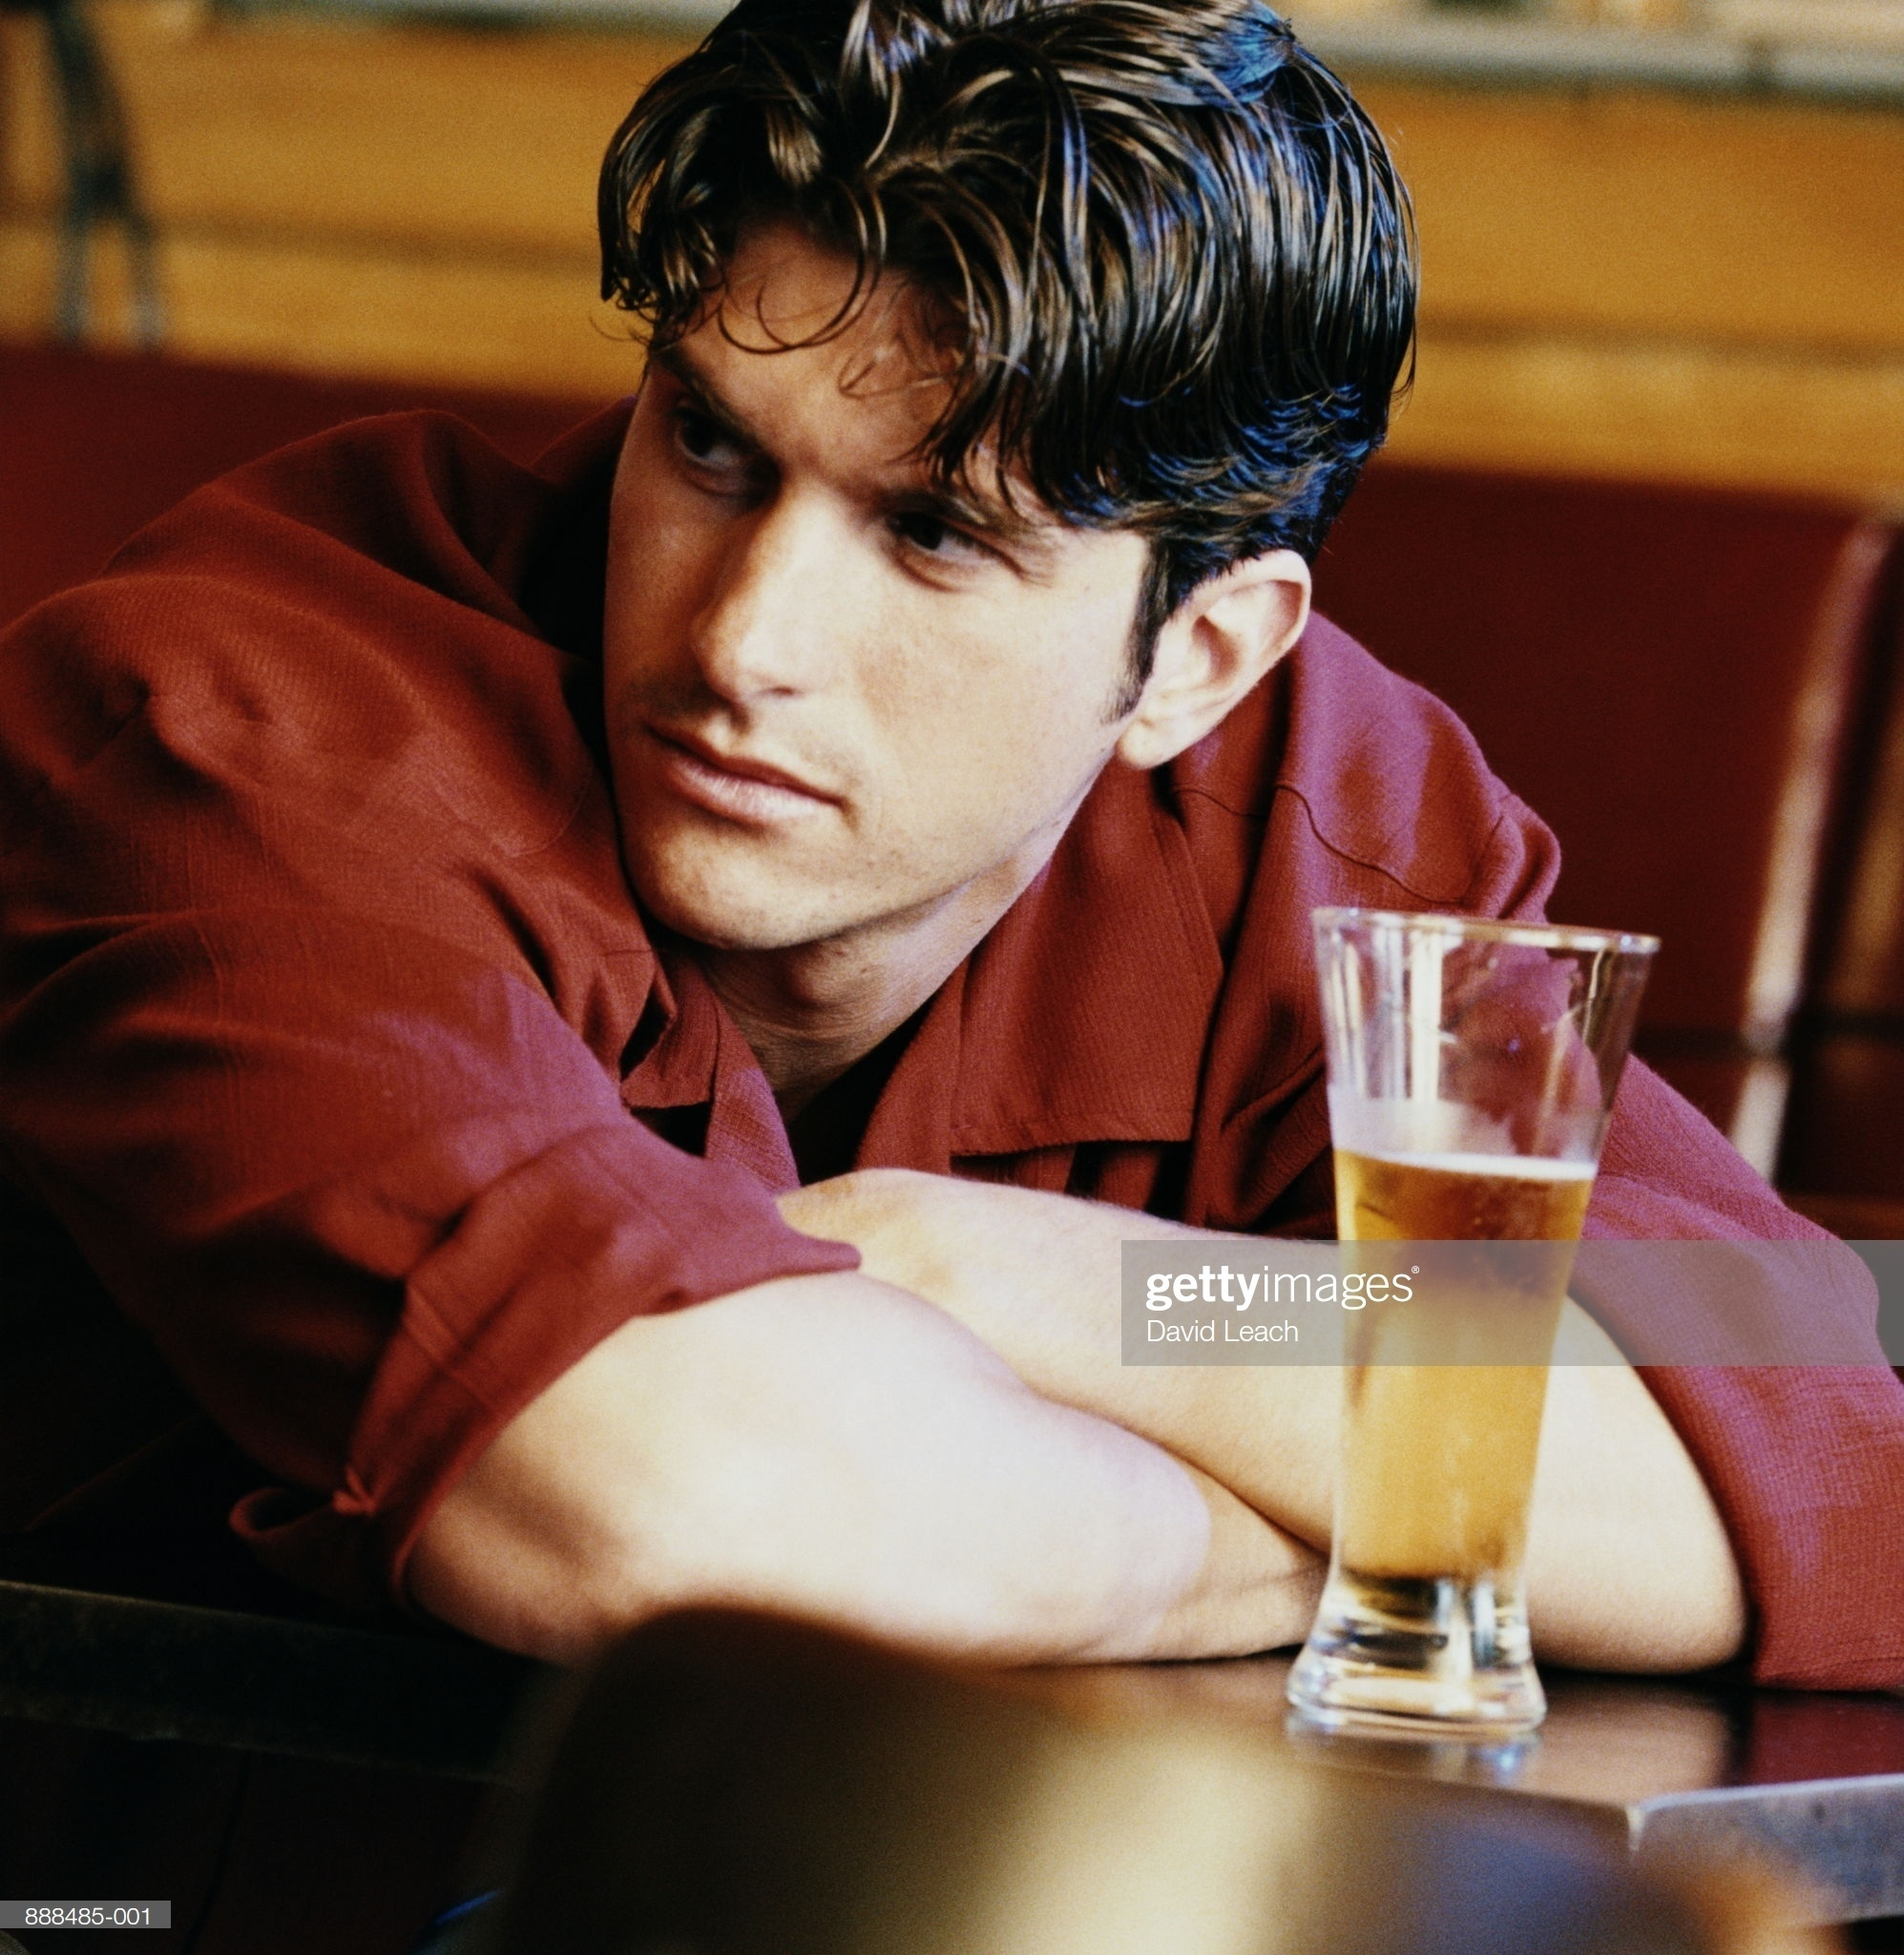whiskey: (1239, 911, 1660, 1726)
